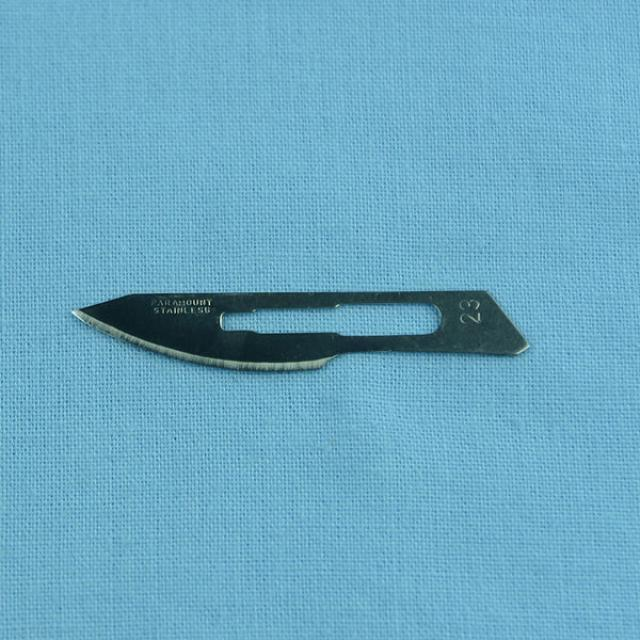Surgical blade: (66, 279, 534, 379)
